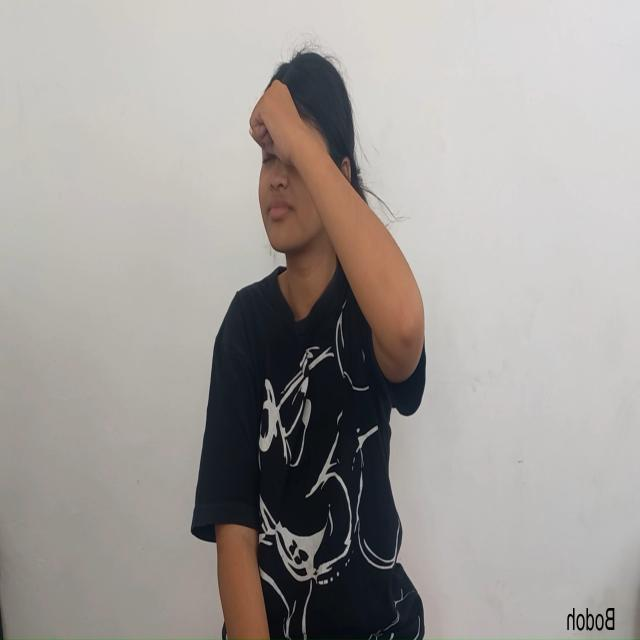Bodoh -BISINDO-: (209, 42, 397, 358)
